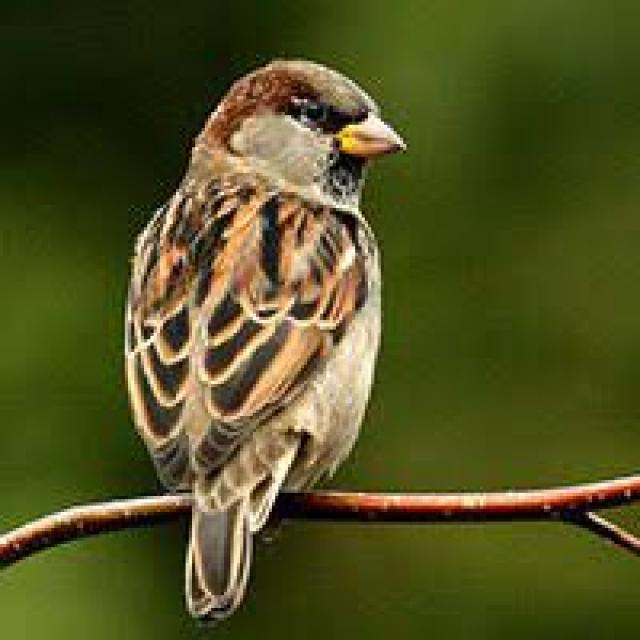bird: (117, 54, 416, 633)
